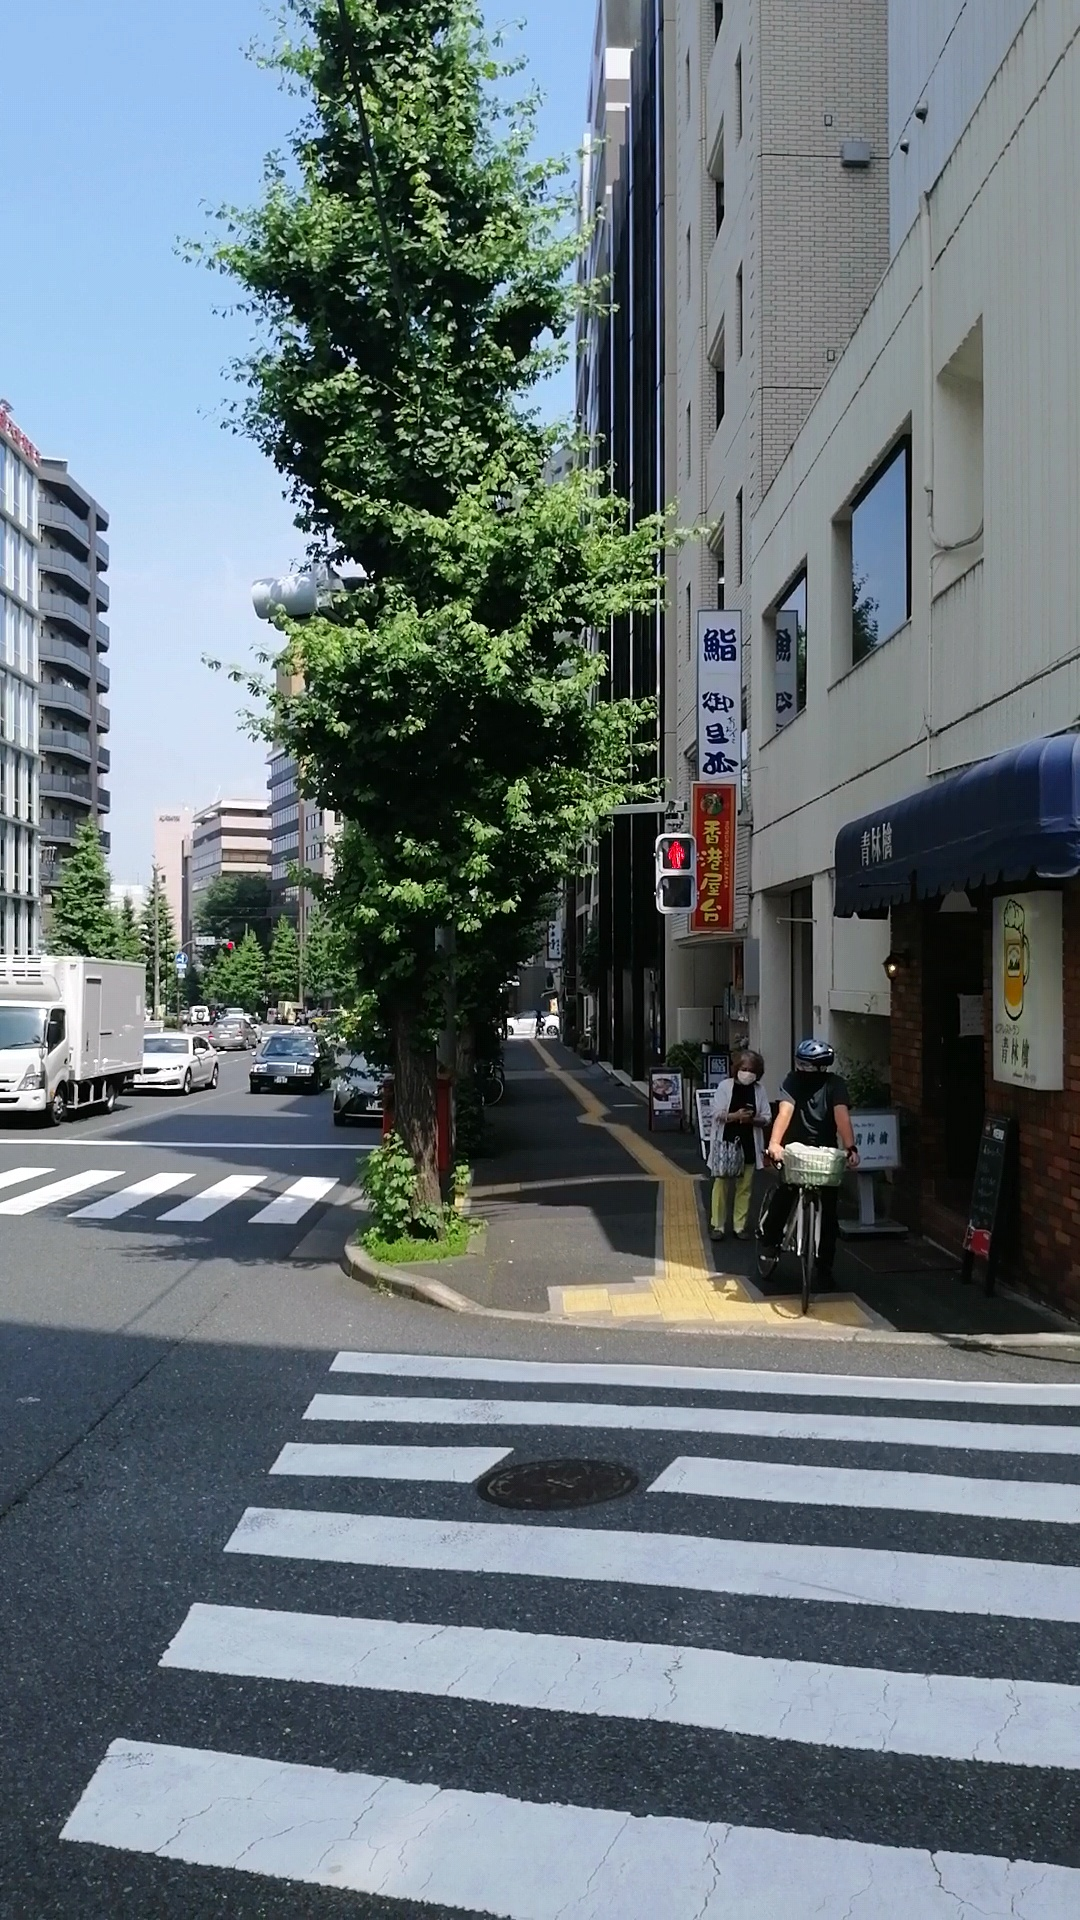red: (651, 831, 698, 913)
